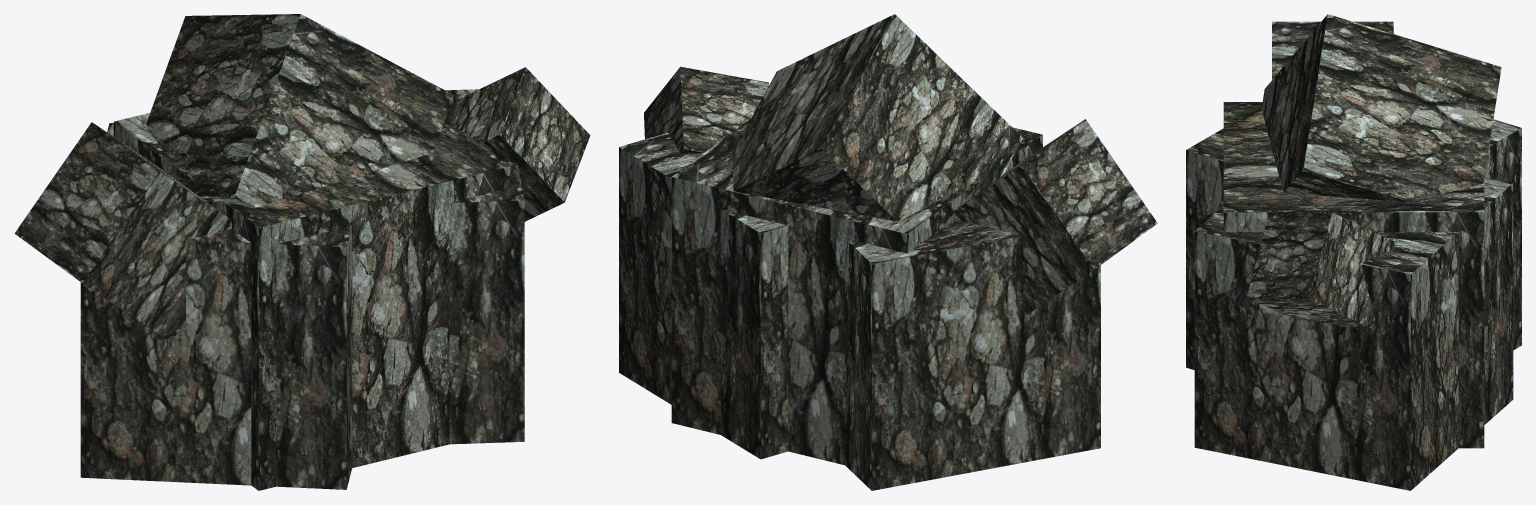
Rendered from stoneObstacle.FBX.
The picture shows the model from 3 angles, left to right: view 1: azimuth 30°, elevation 25°; view 2: azimuth 150°, elevation 25°; view 3: azimuth 270°, elevation 25°; orthographic projection. The views are drawn at different scales.
Visible parts, largest first — view 1: Box003 (×2), Box001, Box004, Box002, Box005; view 2: Box003 (×2), Box001, Box002, Box004, Box005; view 3: Box002, Box003 (×2), Box001, Box005, Box004.
Boxes of the visible parts, x1,y1,x2,y2 form: Box003 (×2): (80,14,453,489); Box001: (113,113,510,490); Box004: (14,122,231,342); Box002: (445,89,524,444); Box005: (445,67,590,221); Box003 (×2): (732,14,1100,490); Box001: (671,119,1042,465); Box002: (619,132,788,459); Box004: (954,119,1157,316); Box005: (644,66,768,153); Box002: (1194,177,1513,490); Box003 (×2): (1186,14,1521,369); Box001: (1223,102,1484,448); Box005: (1247,210,1395,328); Box004: (1272,21,1393,79).
Size of the model in its own units: 14.2 by 10.53 by 8.7.
Materials: 1 (1 with a texture image).
